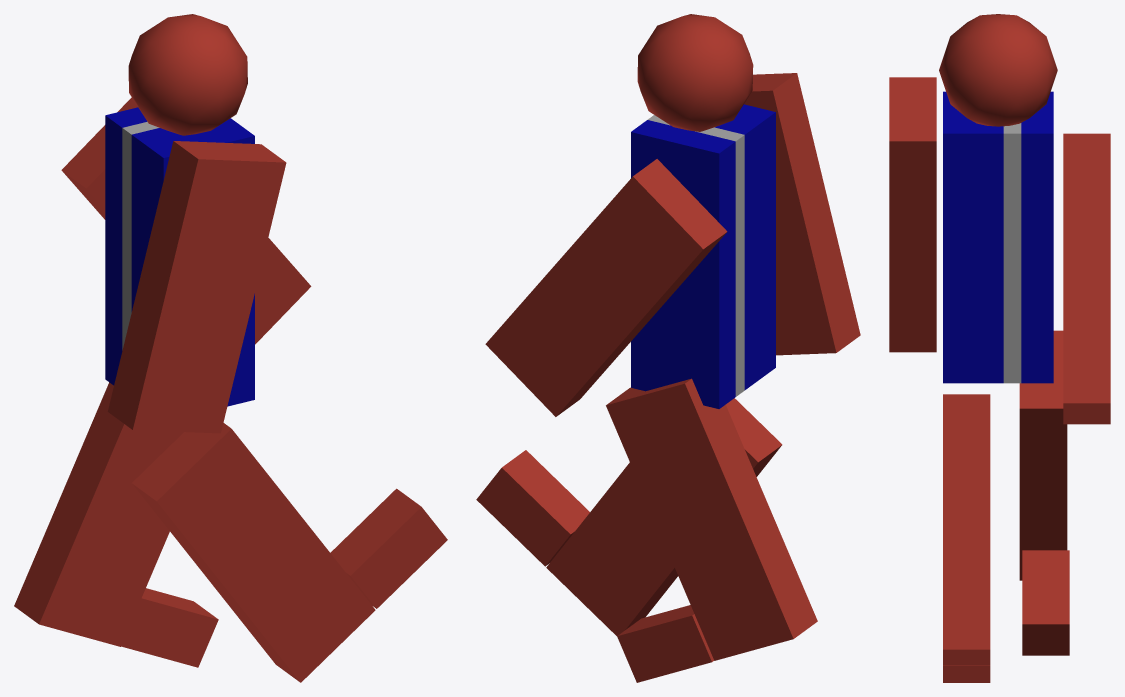
The model's file is player_000025.obj.
3 views of the same model, side by side, from view 1: azimuth 30°, elevation 25°; view 2: azimuth 150°, elevation 25°; view 3: azimuth 270°, elevation 25° (orthographic). The views are drawn at different scales.
Parts seen in each view (by area): view 1: Cube.005, Cube.001, Cube.002, Cube, Icosphere, Cube.003, Cube.006, Cube.004; view 2: Cube.002, Cube, Cube.006, Cube.005, Cube.001, Icosphere, Cube.003, Cube.004; view 3: Cube, Cube.006, Cube.005, Cube.001, Icosphere, Cube.002, Cube.004, Cube.003.
Part boxes in pixels (box(x1,y1,x2,y2)): Cube.005: box(107, 141, 286, 433); Cube.001: box(132, 423, 375, 682); Cube.002: box(14, 382, 183, 646); Cube: box(105, 107, 254, 406); Icosphere: box(128, 14, 247, 135); Cube.003: box(330, 488, 447, 608); Cube.006: box(61, 97, 311, 344); Cube.004: box(121, 588, 218, 667); Cube.002: box(606, 378, 817, 660); Cube: box(631, 104, 775, 408); Cube.006: box(485, 159, 727, 416); Cube.005: box(744, 73, 860, 355); Cube.001: box(546, 398, 782, 635); Icosphere: box(637, 14, 753, 131); Cube.003: box(476, 450, 589, 566); Cube.004: box(617, 605, 713, 682); Cube: box(943, 91, 1053, 383); Cube.006: box(1063, 133, 1110, 424); Cube.005: box(889, 77, 936, 352); Cube.001: box(943, 394, 990, 682); Icosphere: box(939, 14, 1057, 126); Cube.002: box(1019, 330, 1067, 580); Cube.004: box(1022, 550, 1069, 655); Cube.003: box(943, 600, 990, 665).
Size of the model in its own units: 1.66 by 2.86 by 0.9137.
